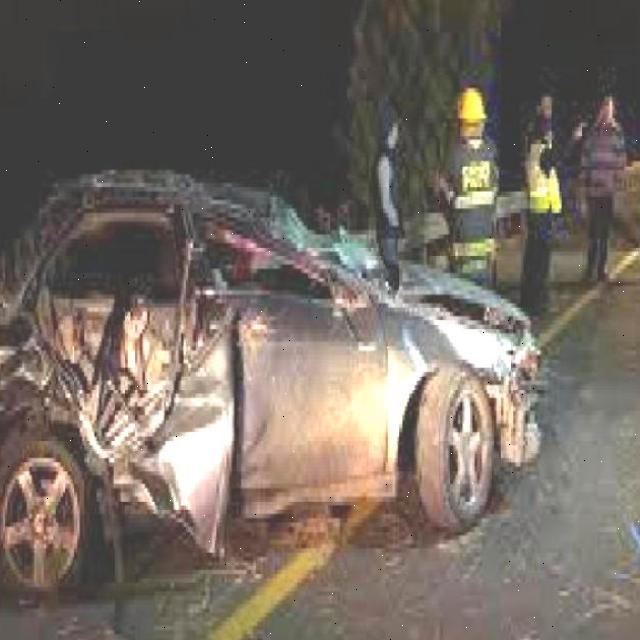accident: (0, 149, 550, 601)
